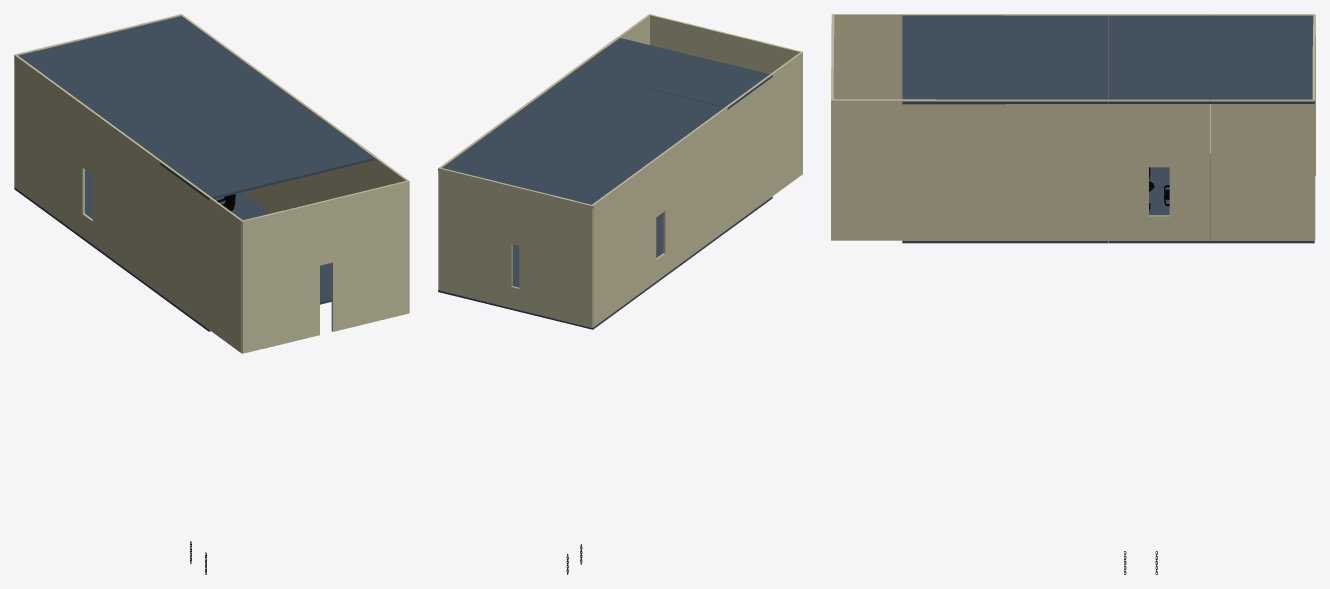
Rendered from Animation_Lamp.fbx.
The picture shows the model from 3 angles, left to right: view 1: azimuth 30°, elevation 25°; view 2: azimuth 150°, elevation 25°; view 3: azimuth 270°, elevation 25°; orthographic projection. The views are drawn at different scales.
Parts seen in each view (by area): view 1: Wall_400x403, Wall_400x404, Wall_Window_400x401, Wall_400x414, Wall_400x412, Wall_400x410, Wall_400x405, Wall_Door_400x400, Wall_400x411, Floor_400x428, Floor_400x420, Floor_400x424 (+11 smaller); view 2: Wall_400x403, Wall_400x405, Wall_400x404, Wall_Window_400x401, Wall_400x409, Wall_400x406, Wall_Window_400x402, Wall_400x407, Wall_400x414, Floor_400x428, Floor_400x423, Floor_400x424 (+12 smaller); view 3: Wall_400x401, Wall_400x400, Wall_400x402, Wall_Window_400x400, Wall_400x415, Wall_400x414, Floor_400x423, Floor_400x424, Floor_400x420, Floor_400x425, Floor_400x428, Floor_400x422 (+3 smaller).
Boxes of the visible parts, bbox=[...] form: Wall_400x403: bbox=[14, 54, 64, 222]; Wall_400x404: bbox=[111, 126, 161, 293]; Wall_Window_400x401: bbox=[63, 90, 113, 257]; Wall_400x414: bbox=[193, 195, 242, 353]; Wall_400x412: bbox=[262, 205, 305, 348]; Wall_400x410: bbox=[367, 180, 409, 323]; Wall_400x405: bbox=[160, 161, 209, 324]; Wall_Door_400x400: bbox=[304, 195, 346, 338]; Wall_400x411: bbox=[346, 185, 388, 328]; Floor_400x428: bbox=[160, 142, 292, 199]; Floor_400x420: bbox=[245, 122, 373, 179]; Floor_400x424: bbox=[196, 87, 325, 141]; Wall_400x403: bbox=[592, 172, 638, 327]; Wall_400x405: bbox=[726, 74, 772, 228]; Wall_400x404: bbox=[682, 107, 727, 261]; Wall_Window_400x401: bbox=[636, 139, 683, 294]; Wall_400x409: bbox=[553, 196, 592, 327]; Wall_400x406: bbox=[438, 167, 477, 299]; Wall_Window_400x402: bbox=[496, 181, 534, 313]; Wall_400x407: bbox=[457, 173, 496, 304]; Wall_400x414: bbox=[759, 52, 802, 196]; Floor_400x428: bbox=[650, 56, 772, 109]; Floor_400x423: bbox=[485, 103, 604, 154]; Floor_400x424: bbox=[530, 71, 649, 121]; Wall_400x401: bbox=[1005, 99, 1108, 240]; Wall_400x400: bbox=[1211, 99, 1313, 240]; Wall_400x402: bbox=[903, 99, 1006, 240]; Wall_Window_400x400: bbox=[1107, 99, 1210, 240]; Wall_400x415: bbox=[833, 99, 935, 240]; Wall_400x414: bbox=[833, 14, 935, 99]; Floor_400x423: bbox=[1108, 58, 1211, 103]; Floor_400x424: bbox=[1005, 58, 1108, 103]; Floor_400x420: bbox=[902, 58, 1005, 103]; Floor_400x425: bbox=[1211, 58, 1314, 103]; Floor_400x428: bbox=[902, 15, 1005, 58]; Floor_400x422: bbox=[1108, 15, 1211, 58].
Bounding box in the file's own units: 1596 × 3762 × 4351.
